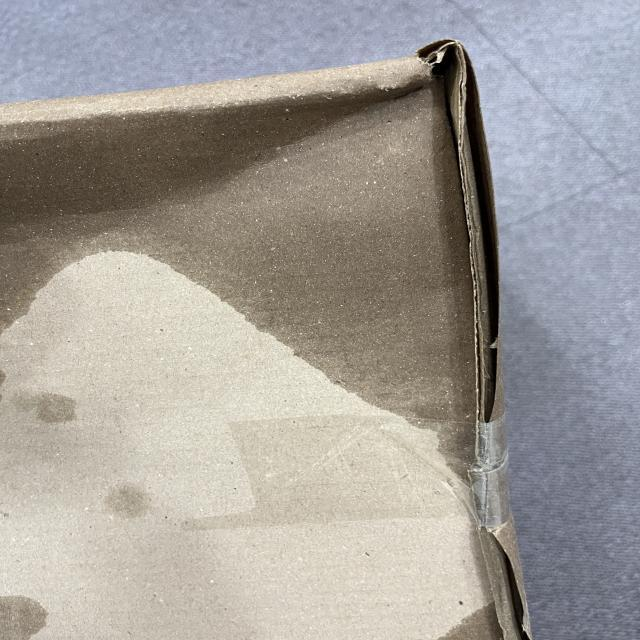wet: (0, 42, 500, 431)
